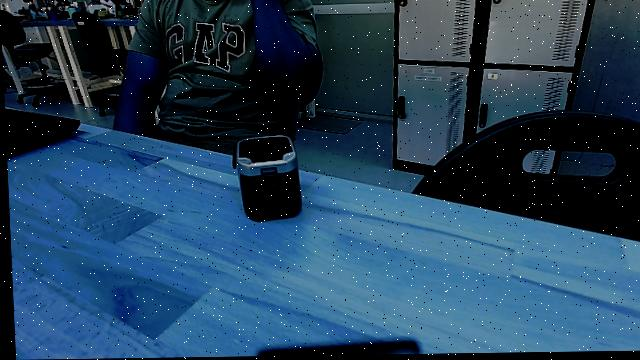adapter: (225, 134, 308, 228)
